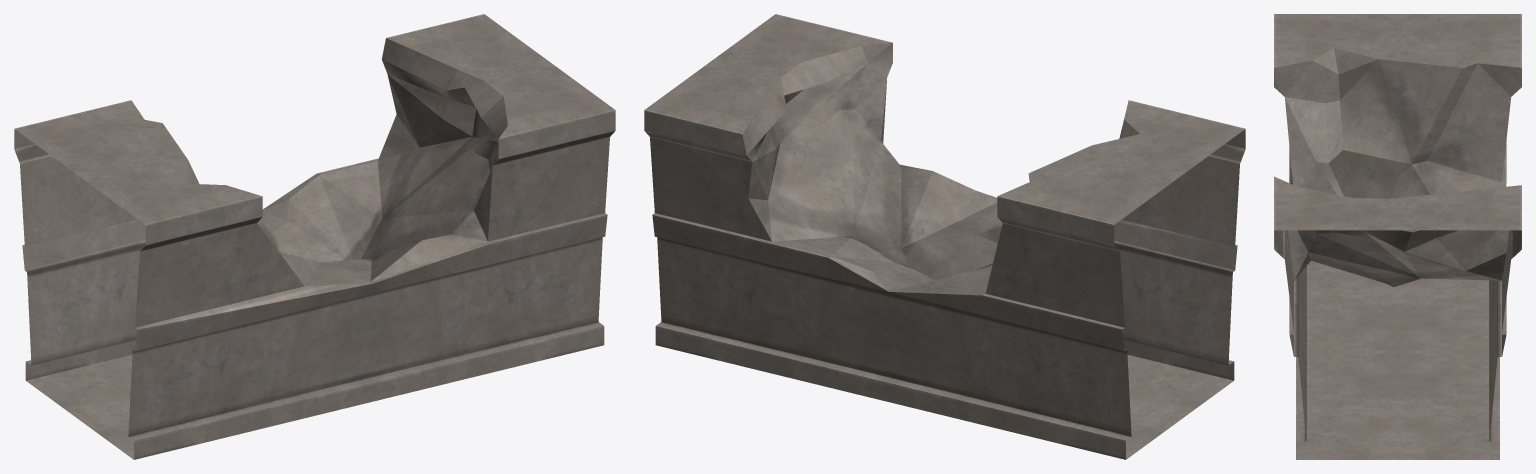
File: sb_obj_outdoor009_AncientTemple_WallTopParts01D.fbx
3 renders of one model, left to right at view 1: azimuth 30°, elevation 25°; view 2: azimuth 150°, elevation 25°; view 3: azimuth 270°, elevation 25°, orthographic. The views are drawn at different scales.
Parts seen in each view (by area): view 1: sb_obj_outdoor009_AncientTemple_WallTopParts01D; view 2: sb_obj_outdoor009_AncientTemple_WallTopParts01D; view 3: sb_obj_outdoor009_AncientTemple_WallTopParts01D.
Part boxes in pixels (bbox=[...]): sb_obj_outdoor009_AncientTemple_WallTopParts01D: bbox=[14, 14, 615, 459]; sb_obj_outdoor009_AncientTemple_WallTopParts01D: bbox=[644, 14, 1245, 459]; sb_obj_outdoor009_AncientTemple_WallTopParts01D: bbox=[1274, 14, 1521, 459].
Bounding box in the file's own units: 4.01 × 1.98 × 1.94.
